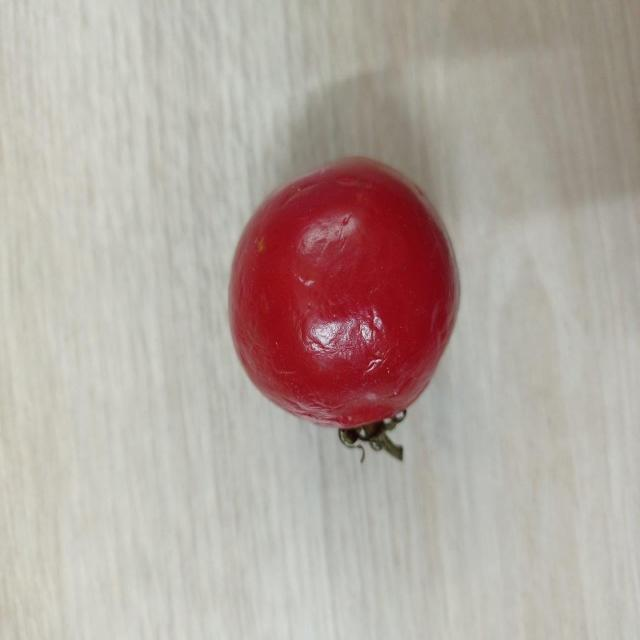overripe: (225, 150, 464, 465)
